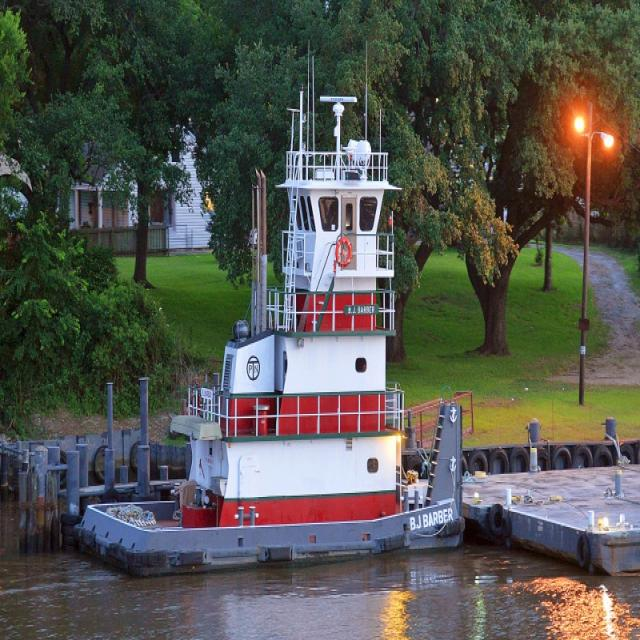tugboat: (59, 91, 470, 578)
